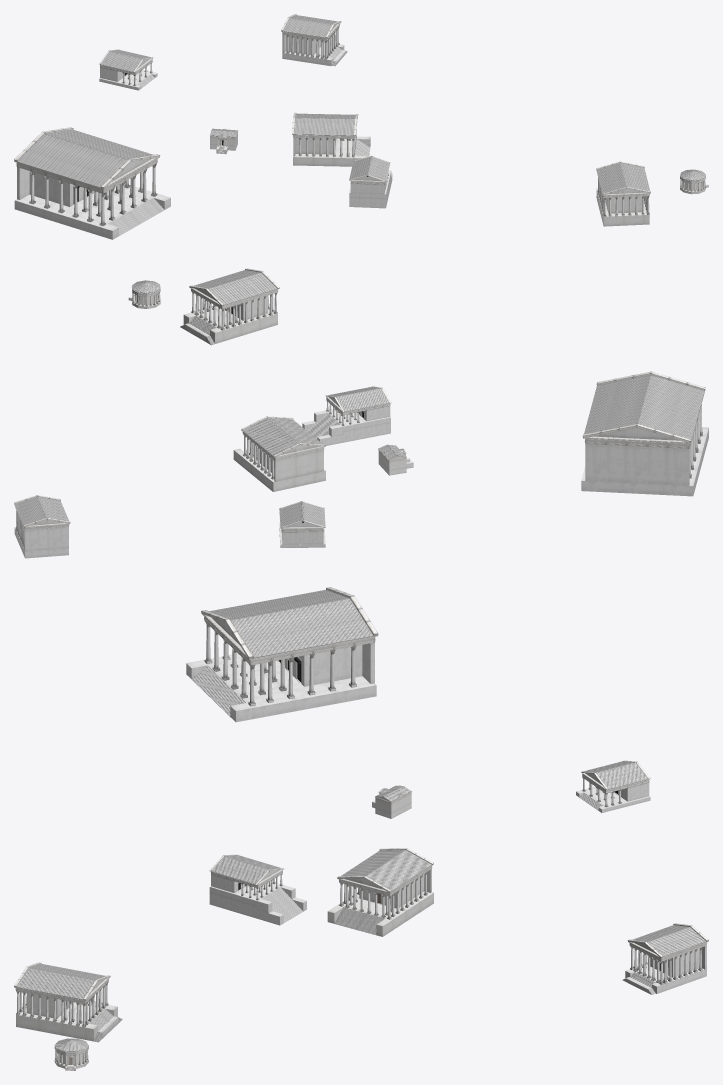
The picture shows the model from 3 angles, top to bottom: view 1: azimuth 30°, elevation 25°; view 2: azimuth 150°, elevation 25°; view 3: azimuth 270°, elevation 25°; orthographic projection. The views are drawn at different scales.
Parts seen in each view (by area): view 1: CityEngineMaterial_1_m, CityEngineMaterial_45_m, CityEngineMaterial_3_m, CityEngineMaterial_9_m, CityEngineMaterial_27_m, CityEngineMaterial_50_m, CityEngineMaterial_28_m, CityEngineMaterial_8_m, CityEngineMaterial_2_m, CityEngineMaterial_15_m, CityEngineMaterial_4_m, CityEngineMaterial_12_m (+5 smaller); view 2: CityEngineMaterial_45_m, CityEngineMaterial_3_m, CityEngineMaterial_1_m, CityEngineMaterial_50_m, CityEngineMaterial_27_m, CityEngineMaterial_28_m, CityEngineMaterial_2_m, CityEngineMaterial_8_m, CityEngineMaterial_15_m, CityEngineMaterial_39_m, CityEngineMaterial_4_m, CityEngineMaterial_24_m (+5 smaller); view 3: CityEngineMaterial_1_m, CityEngineMaterial_45_m, CityEngineMaterial_3_m, CityEngineMaterial_27_m, CityEngineMaterial_9_m, CityEngineMaterial_50_m, CityEngineMaterial_8_m, CityEngineMaterial_15_m, CityEngineMaterial_28_m, CityEngineMaterial_4_m, CityEngineMaterial_39_m, CityEngineMaterial_12_m (+4 smaller).
Boxes of the visible parts, left/top/right/bottom form: CityEngineMaterial_1_m: left=14, top=43, right=392, bottom=239; CityEngineMaterial_45_m: left=17, top=128, right=237, bottom=187; CityEngineMaterial_3_m: left=283, top=15, right=649, bottom=193; CityEngineMaterial_9_m: left=31, top=28, right=388, bottom=223; CityEngineMaterial_27_m: left=293, top=136, right=649, bottom=226; CityEngineMaterial_50_m: left=17, top=164, right=143, bottom=206; CityEngineMaterial_28_m: left=293, top=137, right=646, bottom=213; CityEngineMaterial_8_m: left=16, top=25, right=705, bottom=198; CityEngineMaterial_2_m: left=282, top=25, right=389, bottom=194; CityEngineMaterial_15_m: left=101, top=50, right=705, bottom=180; CityEngineMaterial_4_m: left=281, top=14, right=650, bottom=195; CityEngineMaterial_12_m: left=29, top=26, right=388, bottom=225; CityEngineMaterial_45_m: left=378, top=375, right=704, bottom=460; CityEngineMaterial_3_m: left=15, top=270, right=389, bottom=524; CityEngineMaterial_1_m: left=14, top=409, right=708, bottom=558; CityEngineMaterial_50_m: left=585, top=436, right=689, bottom=485; CityEngineMaterial_27_m: left=180, top=306, right=325, bottom=491; CityEngineMaterial_28_m: left=194, top=288, right=323, bottom=481; CityEngineMaterial_2_m: left=24, top=403, right=390, bottom=551; CityEngineMaterial_8_m: left=15, top=287, right=690, bottom=532; CityEngineMaterial_15_m: left=132, top=280, right=325, bottom=526; CityEngineMaterial_39_m: left=192, top=294, right=276, bottom=329; CityEngineMaterial_4_m: left=14, top=268, right=391, bottom=526; CityEngineMaterial_24_m: left=132, top=292, right=705, bottom=453; CityEngineMaterial_1_m: left=186, top=653, right=706, bottom=994; CityEngineMaterial_45_m: left=209, top=590, right=411, bottom=801; CityEngineMaterial_3_m: left=17, top=850, right=706, bottom=999; CityEngineMaterial_27_m: left=16, top=891, right=433, bottom=1042; CityEngineMaterial_9_m: left=206, top=626, right=701, bottom=983; CityEngineMaterial_50_m: left=207, top=616, right=374, bottom=686; CityEngineMaterial_8_m: left=16, top=618, right=706, bottom=1055; CityEngineMaterial_15_m: left=55, top=761, right=648, bottom=1051; CityEngineMaterial_28_m: left=26, top=869, right=431, bottom=1018; CityEngineMaterial_4_m: left=14, top=848, right=708, bottom=1000; CityEngineMaterial_39_m: left=17, top=985, right=107, bottom=1025; CityEngineMaterial_12_m: left=204, top=622, right=702, bottom=984.
Size of the model in its own units: 402 by 71.63 by 324.
